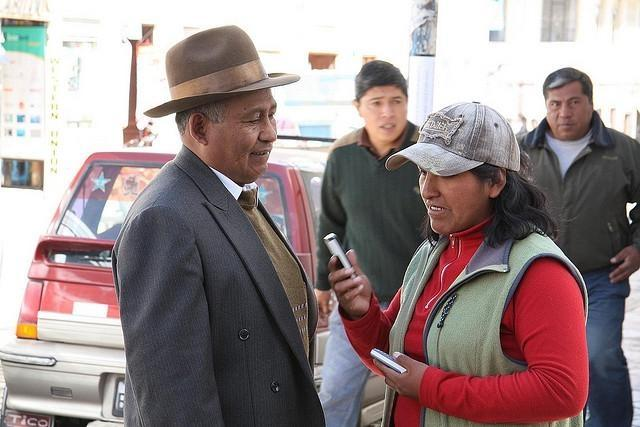car: (2, 151, 388, 422)
